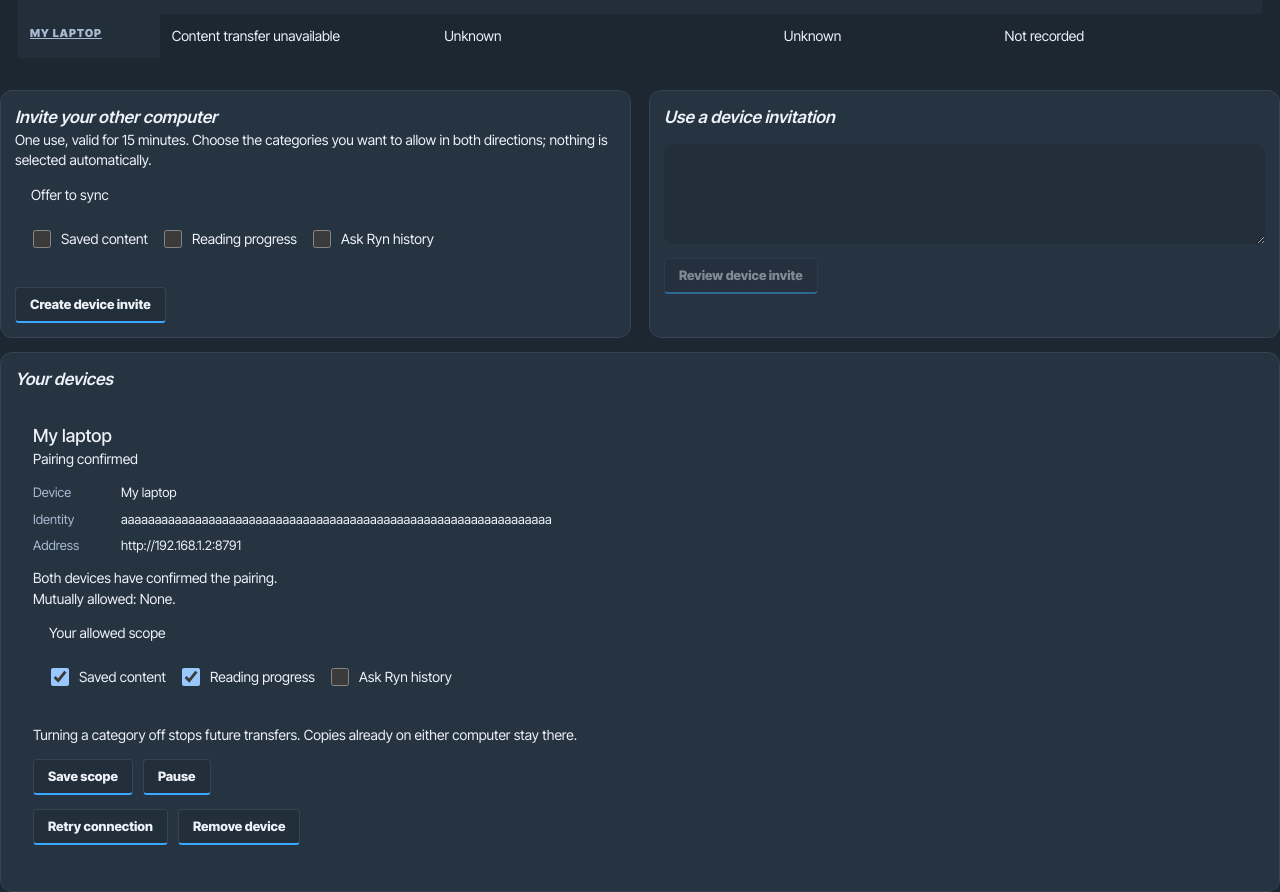
Test: names the device-sync not-found error when a pairing row is gone from the node
(page scrolled)
Expected: the text "Pairing confirmed" is shown, [33, 450, 138, 467]
Click the button "Remove device". click: (239, 827)
box: [178, 809, 300, 845]
(page scrolled)
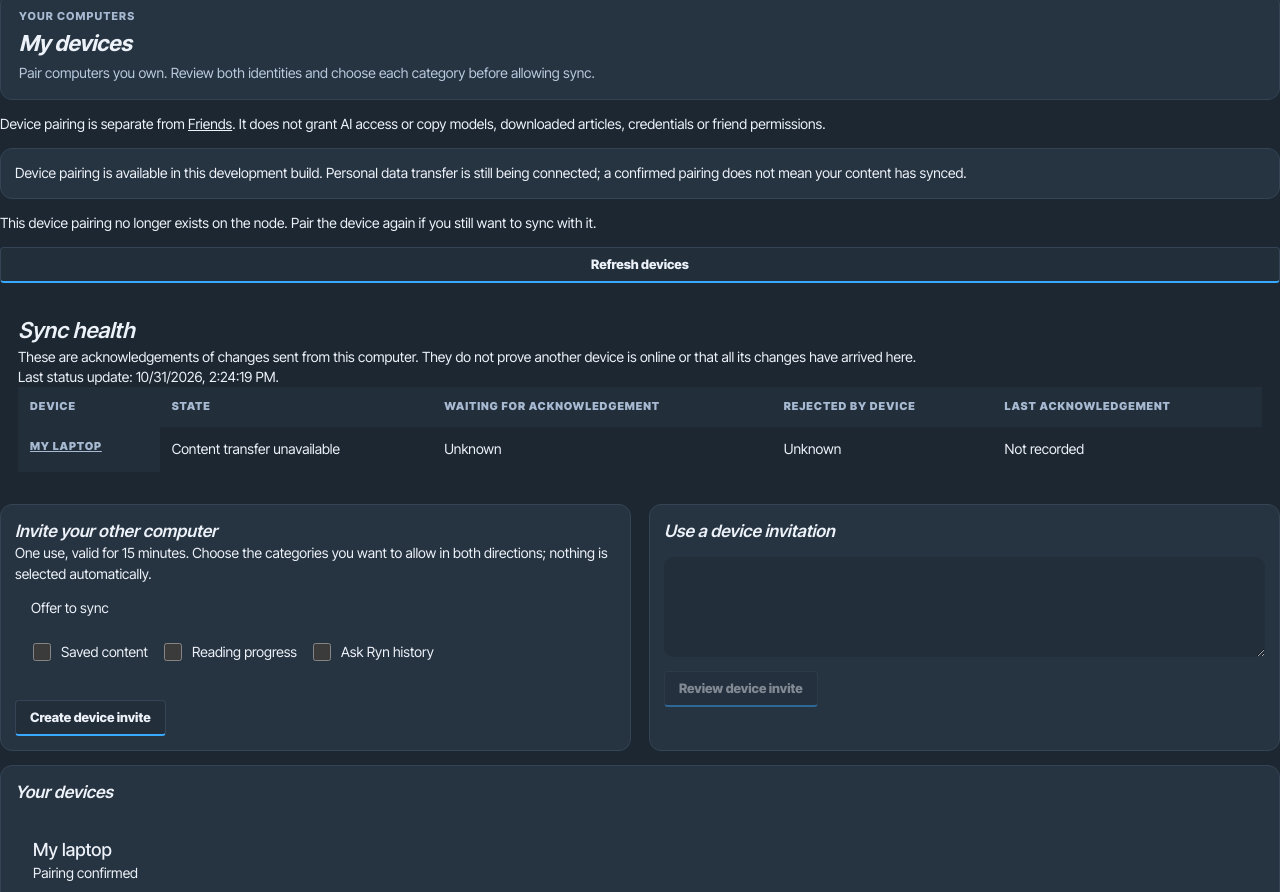
Expected: the message shows "no longer exists on the node", [0, 214, 596, 231]
